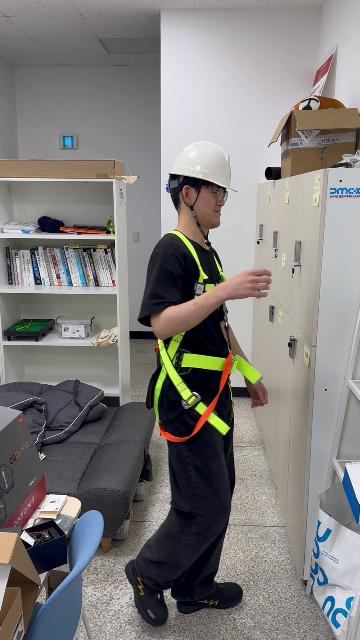helmet_worn: (166, 139, 236, 198)
shoe_worn: (125, 557, 166, 627), (176, 581, 243, 614)
vest_worn: (152, 230, 257, 440)
